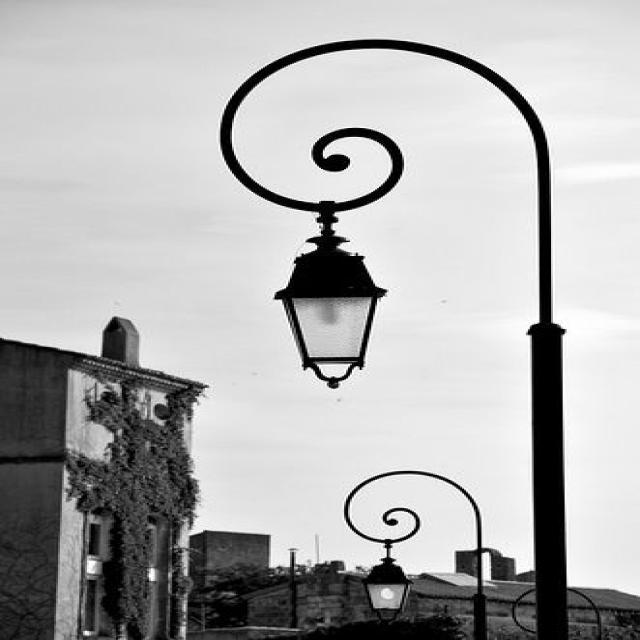off: (260, 226, 399, 388)
